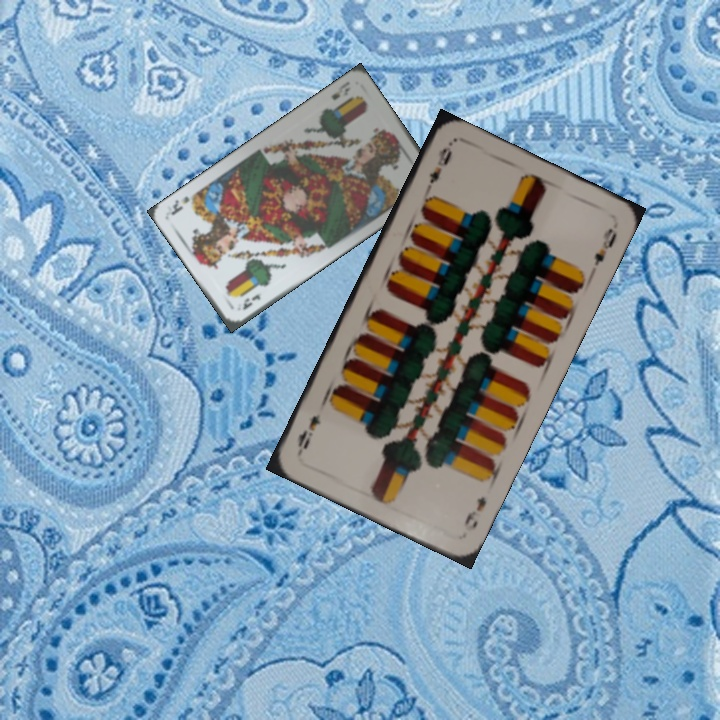E9: (421, 142, 455, 196), (460, 492, 489, 534)
EK: (327, 77, 353, 103), (238, 290, 263, 313)
